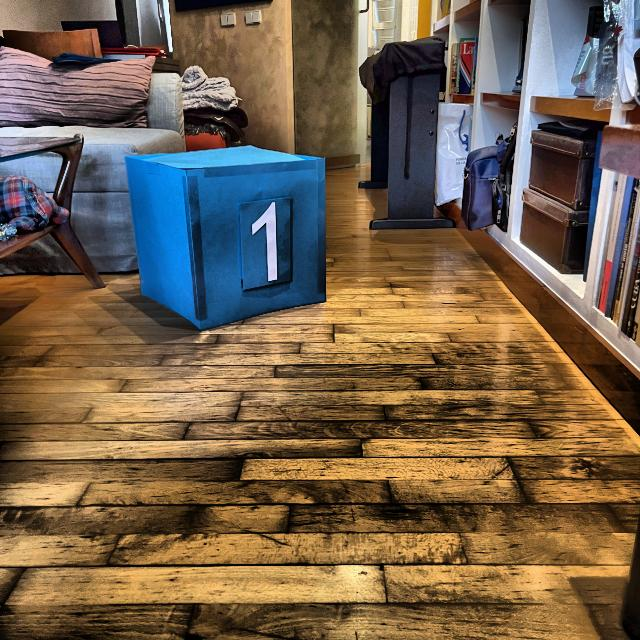blue box: (122, 140, 329, 336)
one: (244, 199, 282, 284)
